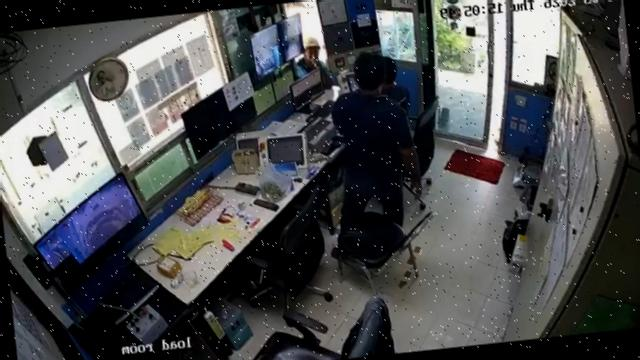Head: (346, 52, 382, 95), (378, 50, 402, 86)
People: (331, 53, 422, 231), (381, 56, 410, 115)
